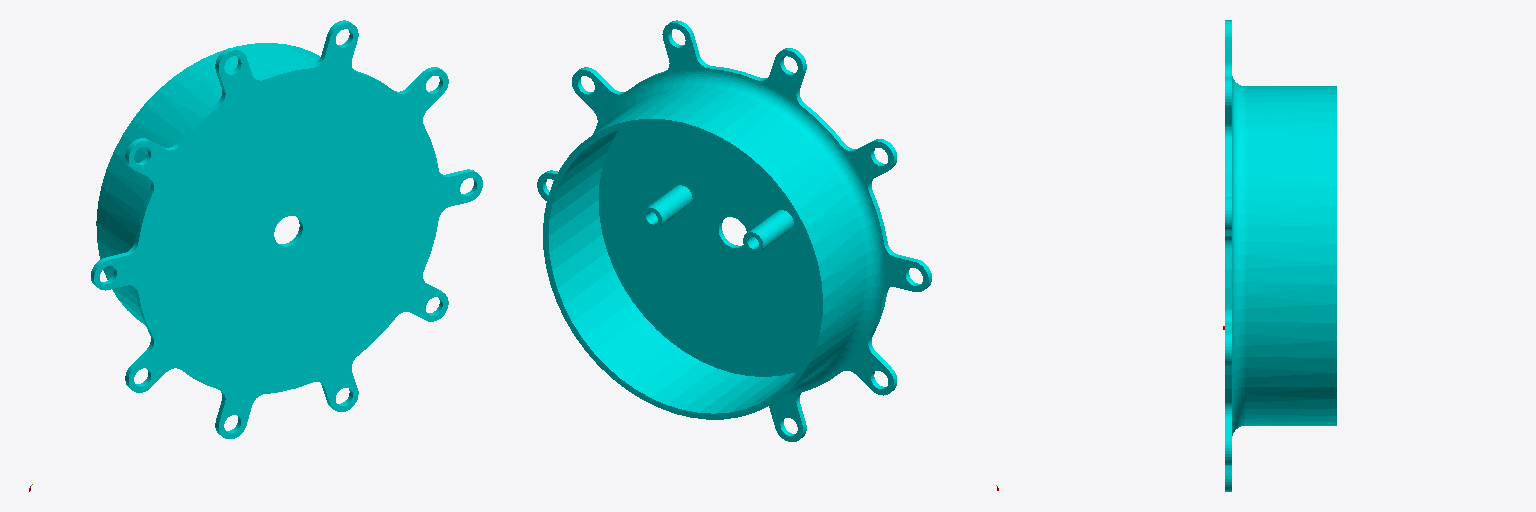
URDF robot description (pi_robot):
<?xml version="1.0"?>

<robot name="pi_robot">

	<!-- * * * Link Definitions * * * -->

 	<link name="base_link">
		<visual>
		    <origin xyz="0 0 0" rpy="0 0 0"/>
			<geometry>
				<!-- <box size="1 1 0.05"/> -->
				<mesh filename="alttaban.STL" />
			</geometry>
			<material name="Cyan1">
	       		<color rgba="0 0.9 0.9 1.0"/>
	     	</material>
		</visual>	
	</link>
	
 	<link name="ana_govde_link">
		<visual>
		    <origin xyz="0 0 0" rpy="0 0 0"/>
			<geometry>
				<cylinder radius="0.25" length="1"/>
			</geometry>
			<material name="Red">
	       		<color rgba="1 0 0 1.0"/>
	     	</material>
		</visual>	
	</link>
	
	<link name="alt_kol_link">
		<visual>
		    <origin xyz="0 0 0" rpy="0 0 0"/>
			<geometry>
				<box size="0.2 0.2 1"/>
			</geometry>
			<material name="Blue">
	       		<color rgba="0.4 0.2 1 1.0"/>
	     	</material>
		</visual>	
	</link>

  	<link name="ust_kol_link">
		<visual>
			<origin xyz="0 0 0" rpy="0 0 1"/>
			<geometry>
				<cylinder radius="0.05" length="1"/>
			</geometry>
	     	<material name="Green">
				<color rgba="0.4 0.6 0 0"/>
			</material>
	   </visual>
	</link>

	
	<!-- * * * Joint Definitions * * * -->
	
	<joint name="ana_govde_joint" type="revolute">
    	<parent link="base_link"/>
    	<child link="ana_govde_link"/>
    	<origin xyz="0 0 0.5" rpy="0 0 0"/>
		<axis xyz="0 0 1"/>
		<limit lower="-3.1416" upper="3.1416" effort="10" velocity="3"/>
	</joint>
	
	<joint name="alt_kol_joint" type="revolute">
    	<parent link="ana_govde_link"/>
    	<child link="alt_kol_link"/>
    	<origin xyz="0.25 0 .8" rpy="0 0.5 0"/>	
		<axis xyz="0 1 0"/>
		<limit lower="-3.1416" upper="3.1416" effort="10" velocity="3"/>
	</joint>

	<joint name="ust_kol_joint" type="revolute">
    	<parent link="alt_kol_link"/>
    	<child link="ust_kol_link"/>
    	<origin xyz="0.25 0 0.8" rpy="0 0.5 0"/>
		<axis xyz="0 1 0"/>
		<limit lower="-3.1416" upper="3.1416" effort="10" velocity="3"/>
	</joint>
	

	
	<!-- * * * Joint Definitions * * * 
	<joint name="ana_govde_joint" type="revolute">
    	<parent link="base_link"/>
    	<child link="ana_govde_link"/>
    	<origin xyz="0 0 0.5" rpy="0 0 0"/>
		<axis xyz="0 0 1"/>
		<limit lower="-3.1416" upper="3.1416" effort="10" velocity="3"/>
	</joint>
	
	<joint name="alt_kol_joint" type="revolute">
    	<parent link="ana_govde_link"/>
    	<child link="alt_kol_link"/>
    	<origin xyz="0 0 1" rpy="0 0 0"/>	
		<axis xyz="0 1 0"/>
		<limit lower="-3.1416" upper="3.1416" effort="10" velocity="3"/>
	</joint>

	<joint name="ust_kol_joint" type="revolute">
    	<parent link="alt_kol_link"/>
    	<child link="ust_kol_link"/>
    	<origin xyz="0 0 1" rpy="0 0 0"/>
		<axis xyz="0 1 0"/>
		<limit lower="-3.1416" upper="3.1416" effort="10" velocity="3"/>
	</joint>
	
	-->
	
	
	
	
	
	

</robot>

--- Facts derived from the render (not from the file) ---
The picture shows the robot from 3 angles, left to right: view 1: azimuth 30°, elevation 25°; view 2: azimuth 150°, elevation 25°; view 3: azimuth 270°, elevation 25°; orthographic projection.
Model pi_robot with 4 links and 3 joints (3 revolute), rooted at base_link, posed all joints at 0.
Visible links, largest first — view 1: base_link; view 2: base_link; view 3: base_link.
Link boxes in pixels (bbox=[...]): base_link: bbox=[91, 20, 482, 438]; base_link: bbox=[537, 20, 931, 441]; base_link: bbox=[1225, 20, 1336, 491].
Size in the robot's own frame: 158 by 32.57 by 130 metres.
Meshes: 1 distinct files referenced, 1 mesh visuals loaded (1 binary STL).
